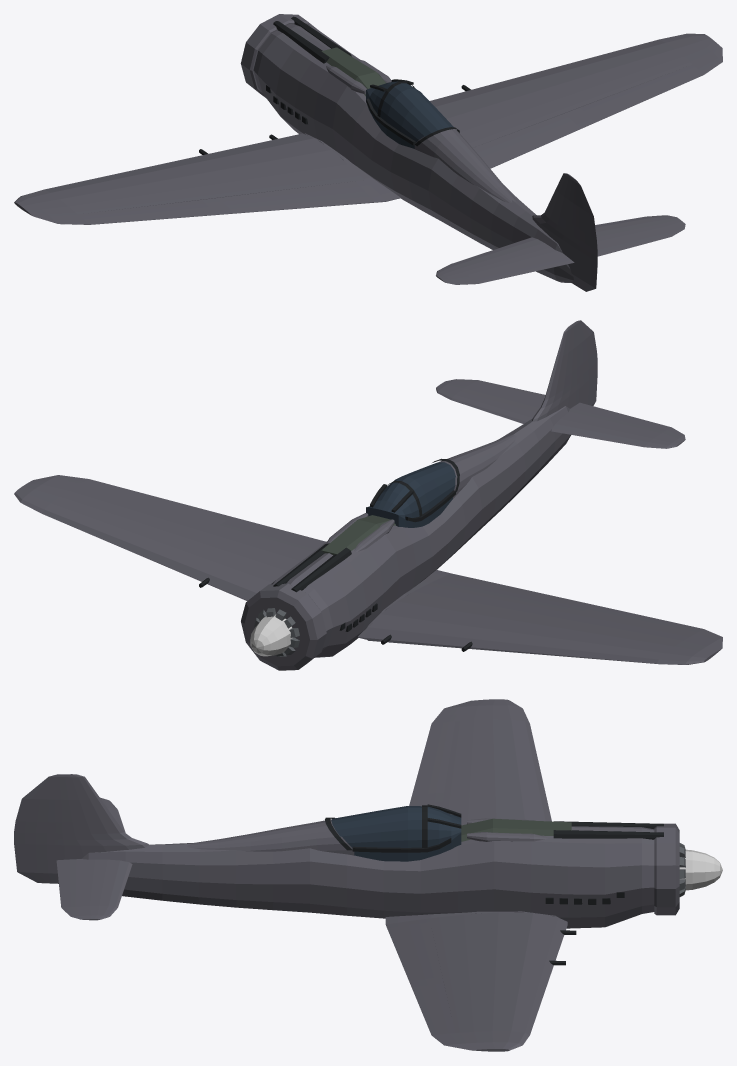
3 renders of one model, top to bottom at view 1: azimuth 30°, elevation 25°; view 2: azimuth 150°, elevation 25°; view 3: azimuth 270°, elevation 25°, orthographic. The views are drawn at different scales.
Parts seen in each view (by area): view 1: Fuselage, Wing L, Wing R, Cockpit Glass, Flap L, Dorsal Fairing, Flap R, Aileron R, Stabilizer L, Rudder, Vertical Fin, Aileron L (+8 smaller); view 2: Wing L, Fuselage, Wing R, Armoured Cowl Ring, Cockpit Glass, Stabilizer L, Vertical Fin, Stabilizer R, Flap L, Aileron R, Dorsal Fairing, Rudder (+10 smaller); view 3: Fuselage, Wing R, Wing L, Cockpit Glass, Vertical Fin, Rudder, Dorsal Fairing, Stabilizer R, Armoured Cowl Ring, Flap R, Aileron L, Aileron R (+6 smaller).
Part boxes in pixels (x1=…): Fuselage: x1=253, y1=24, x2=574, y2=282; Wing L: x1=14, y1=133, x2=400, y2=224; Wing R: x1=430, y1=33, x2=722, y2=147; Cockpit Glass: x1=366, y1=81, x2=453, y2=148; Flap L: x1=218, y1=181, x2=375, y2=213; Dorsal Fairing: x1=414, y1=129, x2=516, y2=203; Flap R: x1=473, y1=113, x2=580, y2=168; Aileron R: x1=580, y1=59, x2=713, y2=122; Stabilizer L: x1=436, y1=237, x2=559, y2=280; Rudder: x1=573, y1=180, x2=597, y2=291; Vertical Fin: x1=532, y1=173, x2=575, y2=284; Aileron L: x1=64, y1=200, x2=216, y2=224; Wing L: x1=358, y1=570, x2=722, y2=664; Fuselage: x1=271, y1=406, x2=570, y2=657; Wing R: x1=14, y1=475, x2=312, y2=600; Armoured Cowl Ring: x1=241, y1=583, x2=326, y2=670; Cockpit Glass: x1=366, y1=462, x2=455, y2=527; Stabilizer L: x1=551, y1=410, x2=682, y2=448; Vertical Fin: x1=532, y1=322, x2=578, y2=421; Stabilizer R: x1=436, y1=383, x2=541, y2=423; Flap L: x1=440, y1=575, x2=579, y2=609; Aileron R: x1=64, y1=477, x2=216, y2=520; Dorsal Fairing: x1=439, y1=434, x2=516, y2=498; Rudder: x1=576, y1=320, x2=597, y2=405; Fuselage: x1=81, y1=826, x2=654, y2=928; Wing R: x1=385, y1=911, x2=576, y2=1051; Wing L: x1=409, y1=699, x2=551, y2=825; Cockpit Glass: x1=331, y1=806, x2=461, y2=861; Vertical Fin: x1=58, y1=774, x2=148, y2=883; Rudder: x1=14, y1=774, x2=58, y2=883; Dorsal Fairing: x1=187, y1=819, x2=354, y2=855; Stabilizer R: x1=80, y1=859, x2=132, y2=920; Armoured Cowl Ring: x1=654, y1=823, x2=679, y2=915; Flap R: x1=387, y1=922, x2=442, y2=981; Aileron L: x1=412, y1=714, x2=458, y2=795; Aileron R: x1=412, y1=984, x2=458, y2=1040.
Size of the model in its own units: 10.5 by 2.21 by 9.
